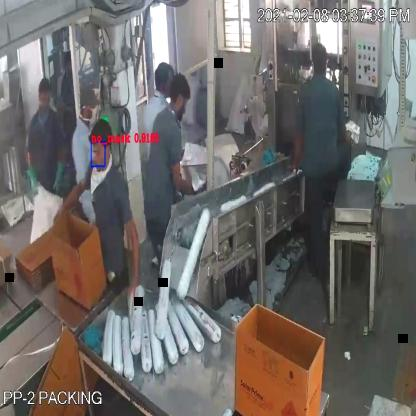glove: (22, 152, 47, 202), (54, 157, 67, 202)
no_glove: (49, 168, 94, 222), (119, 212, 145, 297), (165, 153, 197, 197)
